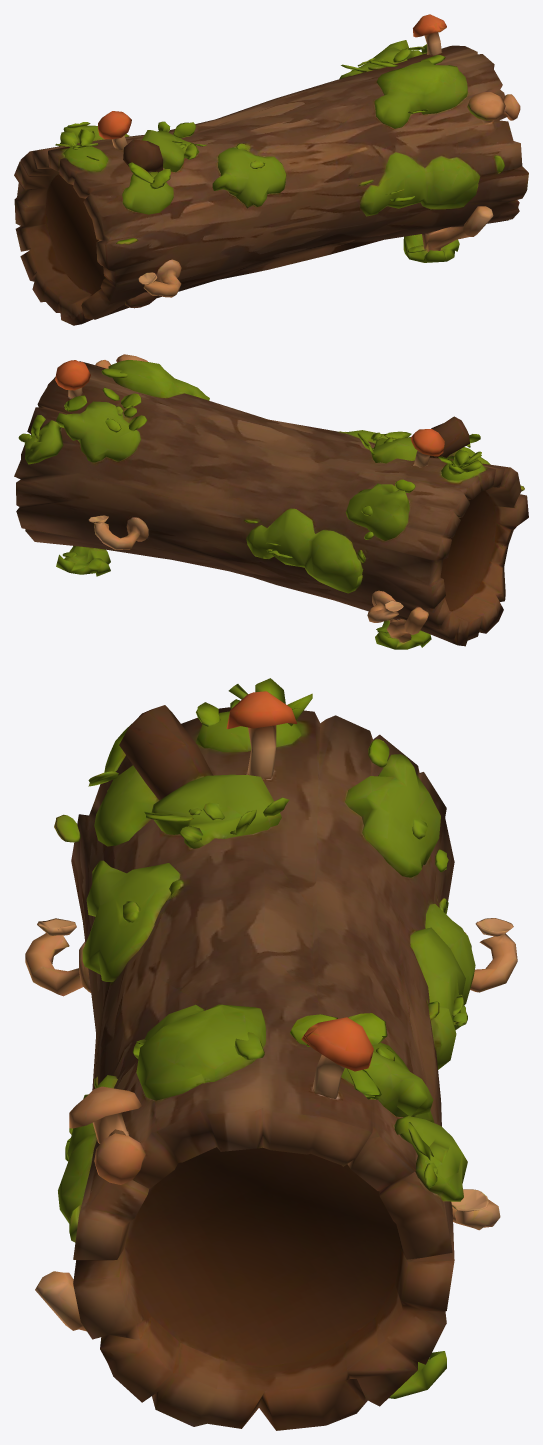
File: hollow-log-tunnel.glb
3 views of the same model, one above another, from view 1: azimuth 30°, elevation 25°; view 2: azimuth 150°, elevation 25°; view 3: azimuth 270°, elevation 25° (orthographic). The views are drawn at different scales.
Parts seen in each view (by area): view 1: tripo_node_2e079932-dfde-4437-b9c1-c50fcfc12405; view 2: tripo_node_2e079932-dfde-4437-b9c1-c50fcfc12405; view 3: tripo_node_2e079932-dfde-4437-b9c1-c50fcfc12405.
Part boxes in pixels (left/top/right/bottom): tripo_node_2e079932-dfde-4437-b9c1-c50fcfc12405: left=14, top=14, right=528, bottom=325; tripo_node_2e079932-dfde-4437-b9c1-c50fcfc12405: left=14, top=354, right=528, bottom=649; tripo_node_2e079932-dfde-4437-b9c1-c50fcfc12405: left=25, top=678, right=517, bottom=1430.
Size of the model in its own units: 0.998 by 0.4473 by 0.502.
1 material, 1 textured.
